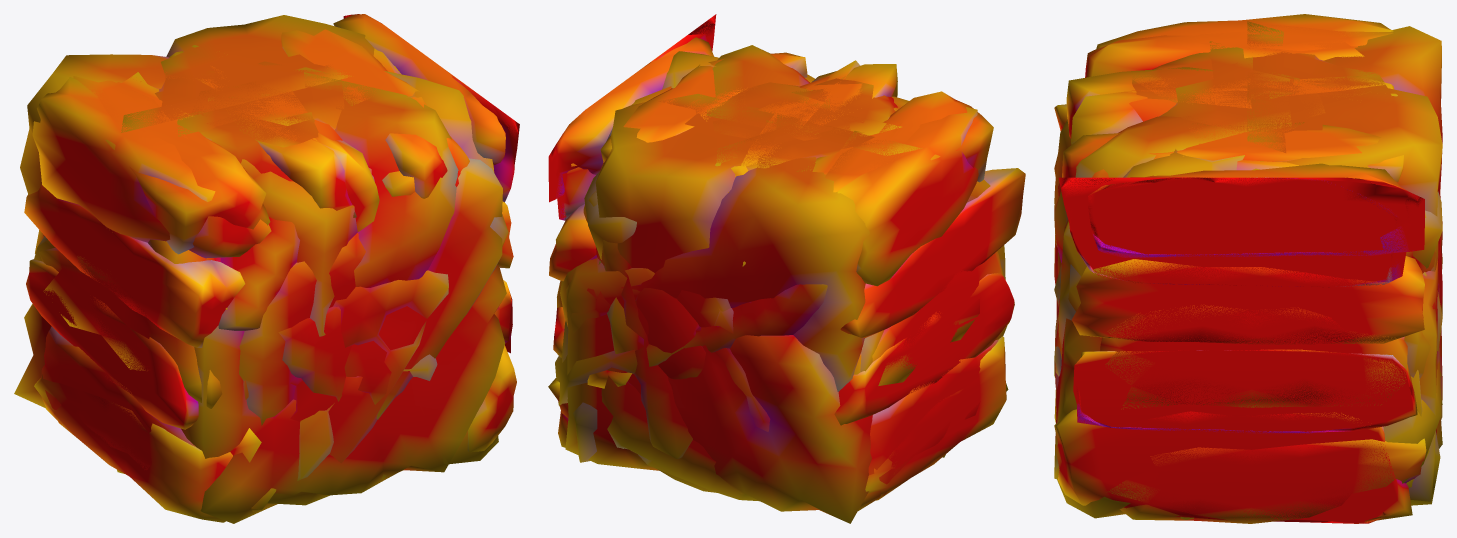
The model's file is pieces.glb.
3 renders of one model, left to right at view 1: azimuth 30°, elevation 25°; view 2: azimuth 150°, elevation 25°; view 3: azimuth 270°, elevation 25°, orthographic. The views are drawn at different scales.
Parts seen in each view (by area): view 1: wall_a, wall_b, block_c, block_a, block_b, drum, rock_a, slab_b, rock_c, rock_d, slab_a; view 2: wall_a, block_c, wall_b, block_b, block_a, rock_a, drum, rock_d, slab_a, rock_c, slab_b, rock_b; view 3: wall_a, wall_b, block_a, block_c, block_b, drum, rock_a, rock_c, slab_a, slab_b, rock_d.
Part boxes in pixels (<box>): wall_a: <box>24,14,513,522</box>; wall_b: <box>32,48,519,469</box>; block_c: <box>14,67,508,523</box>; block_a: <box>121,15,448,505</box>; block_b: <box>20,54,502,480</box>; drum: <box>304,72,458,287</box>; rock_a: <box>201,112,318,330</box>; slab_b: <box>34,233,365,425</box>; rock_c: <box>117,61,371,473</box>; rock_d: <box>148,45,351,401</box>; slab_a: <box>208,97,498,479</box>; wall_a: <box>548,37,1025,500</box>; block_c: <box>565,51,1008,523</box>; wall_b: <box>556,14,1003,510</box>; block_b: <box>560,143,869,391</box>; block_a: <box>595,94,922,431</box>; rock_a: <box>555,78,897,405</box>; drum: <box>635,45,809,379</box>; rock_d: <box>601,115,990,501</box>; slab_a: <box>583,120,818,458</box>; rock_c: <box>584,96,945,457</box>; slab_b: <box>561,321,884,480</box>; rock_b: <box>598,118,801,353</box>; wall_a: <box>1054,23,1442,523</box>; wall_b: <box>1054,14,1412,523</box>; block_a: <box>1054,21,1442,391</box>; block_c: <box>1054,41,1442,501</box>; block_b: <box>1054,26,1442,378</box>; drum: <box>1054,116,1442,307</box>; rock_a: <box>1054,52,1442,483</box>; rock_c: <box>1054,62,1442,268</box>; slab_a: <box>1054,73,1442,519</box>; slab_b: <box>1054,183,1440,505</box>; rock_d: <box>1054,77,1442,448</box>.
Size of the model in its own units: 1 by 0.985 by 1.
